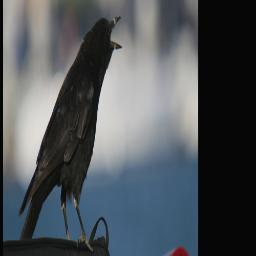Crow: (18, 11, 124, 256)
